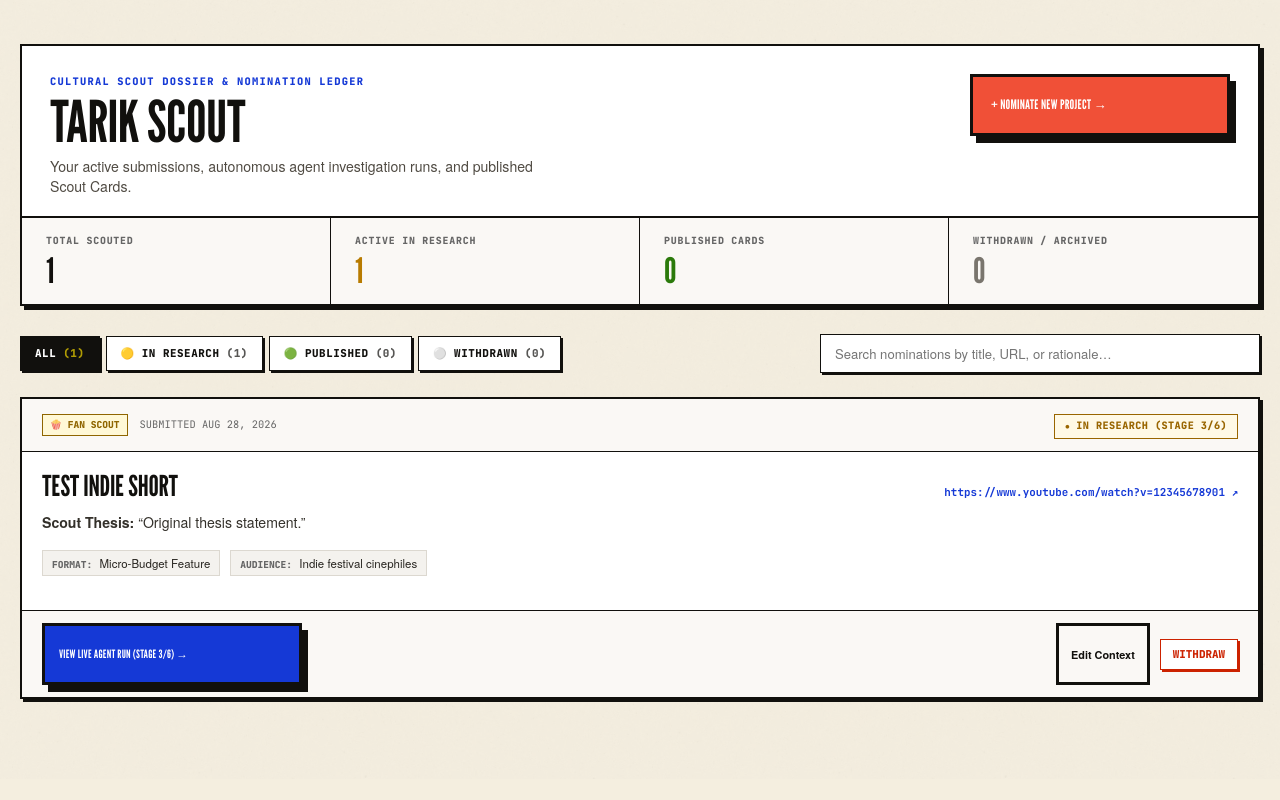
Test: MyNominationsClient › opens edit modal and allows updating context
Check: the heading "Test Indie Short" is shown, box x1=42 y1=472 x2=178 y2=500
Click the button "Edit Context" at (1103, 654), box x1=1056 y1=624 x2=1150 y2=686
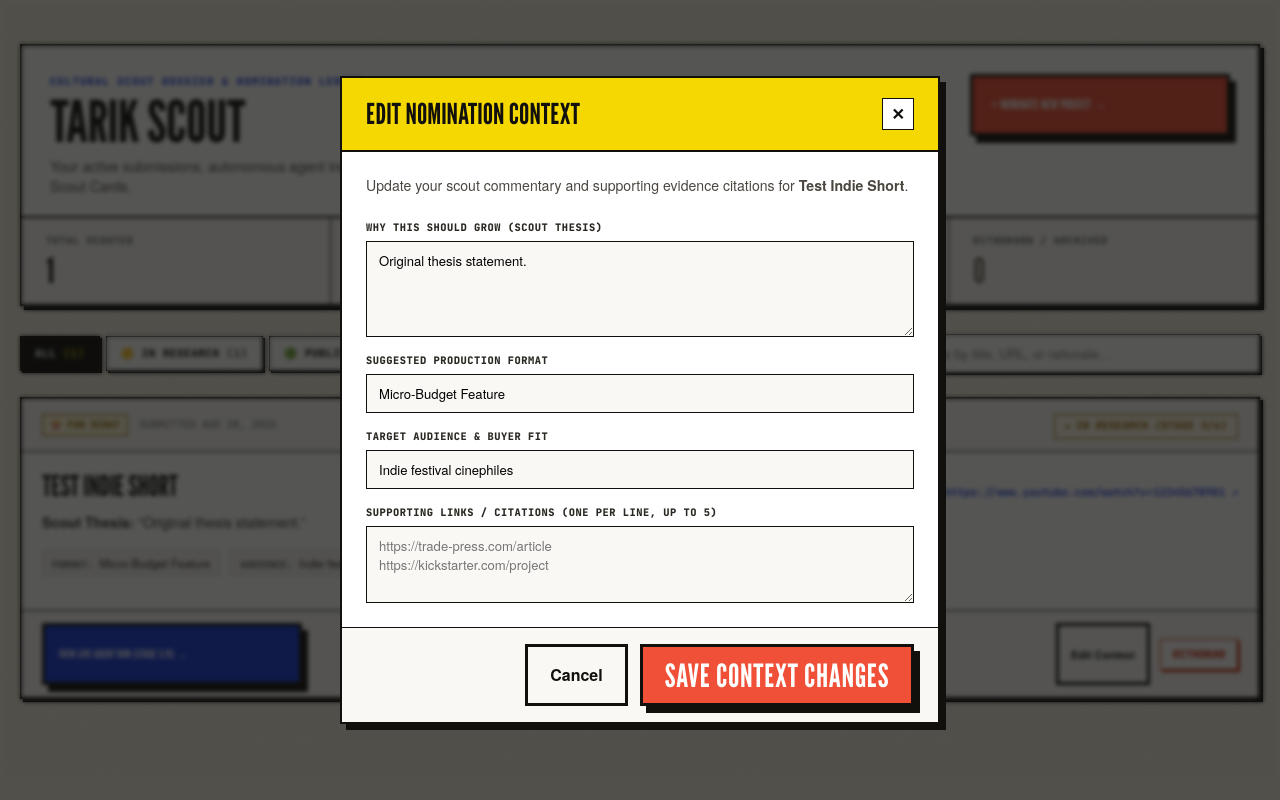
Check: the heading "Edit Nomination Context" is shown, box x1=366 y1=100 x2=580 y2=128
Replace the text in the text box with placeholder "Explain why this project deserves institutional backing..." with "Updated expanded scout thesis statement." at (640, 289), box x1=366 y1=241 x2=914 y2=337
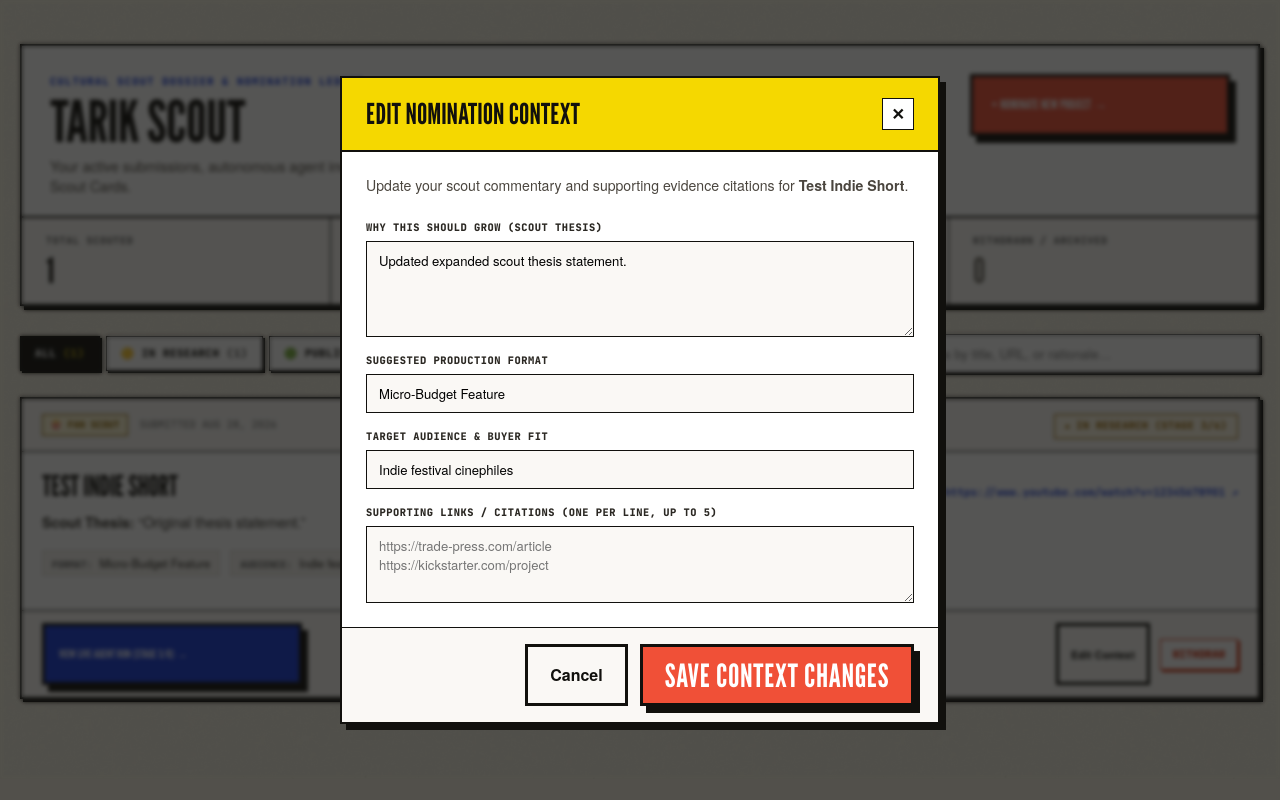
Click the button "Save Context Changes" at (777, 675), box x1=640 y1=644 x2=914 y2=706
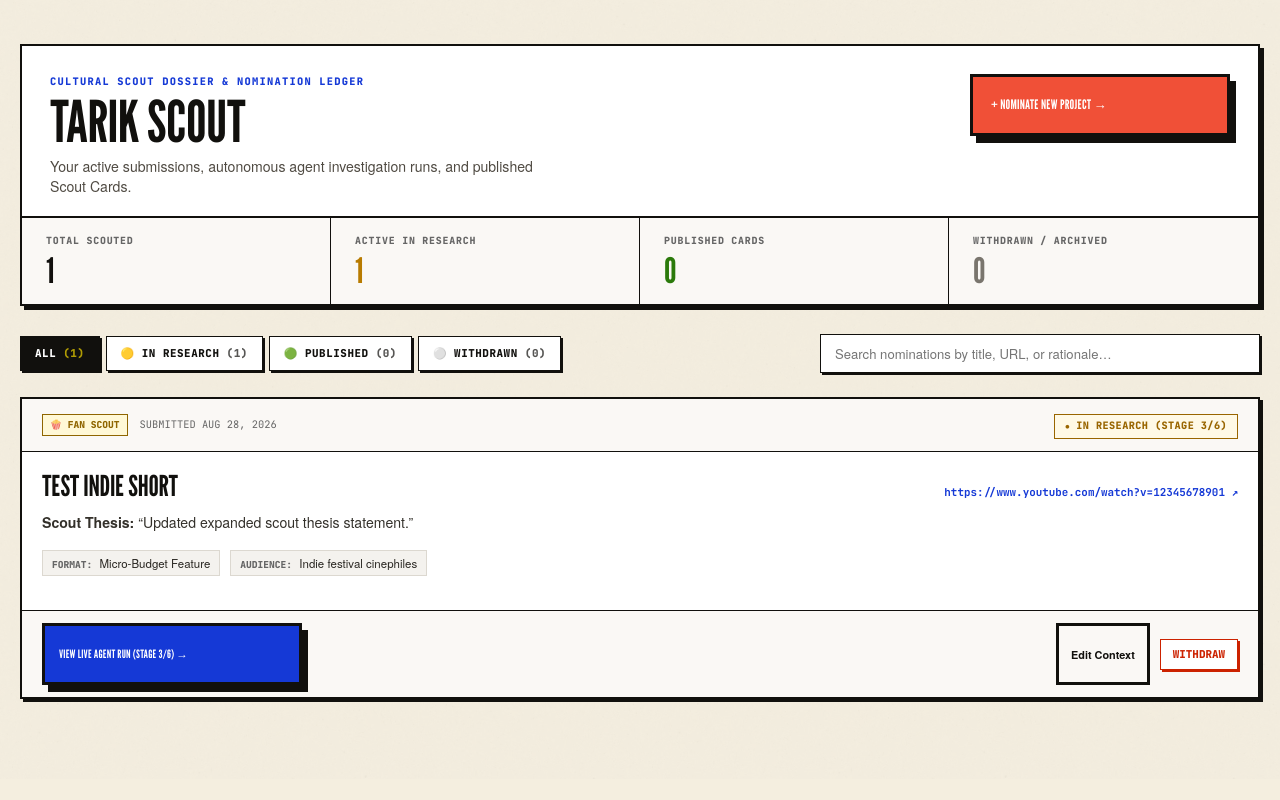
Check: the heading "Edit Nomination Context" is gone
